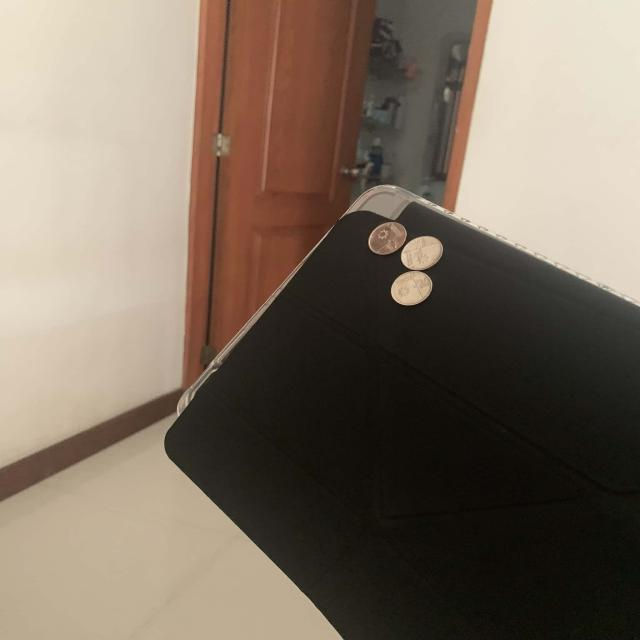25 cents: (390, 271, 433, 306), (401, 236, 443, 270), (368, 221, 406, 255)
